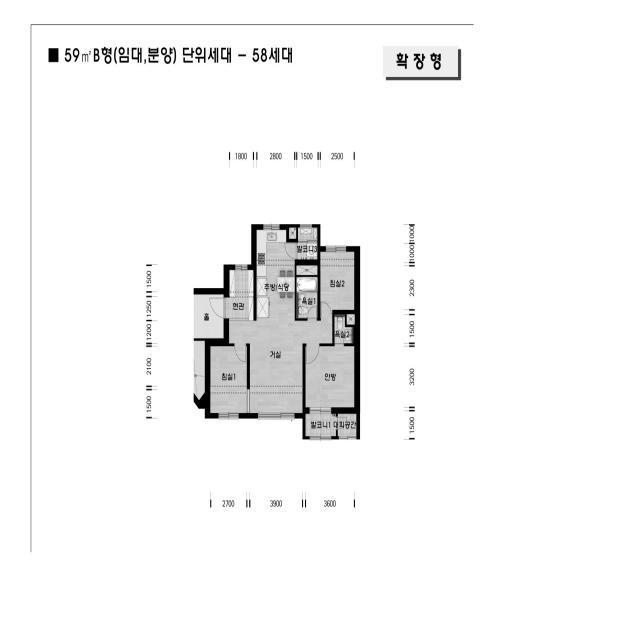space_balconi: (306, 414, 336, 436), (298, 242, 317, 260)
space_bedroom: (306, 346, 355, 407), (210, 346, 247, 413), (320, 251, 355, 318)
space_elevator_hall: (194, 294, 224, 338)
space_front: (227, 270, 254, 321)
space_kitchen: (257, 230, 296, 321)
space_living_room: (229, 321, 333, 414)
space_other: (194, 341, 205, 400), (338, 414, 356, 436), (296, 265, 318, 275), (347, 314, 355, 325), (289, 227, 296, 239)
space_outdoor_room: (298, 227, 318, 240)
space_toilet: (296, 277, 318, 318), (334, 314, 353, 343)
